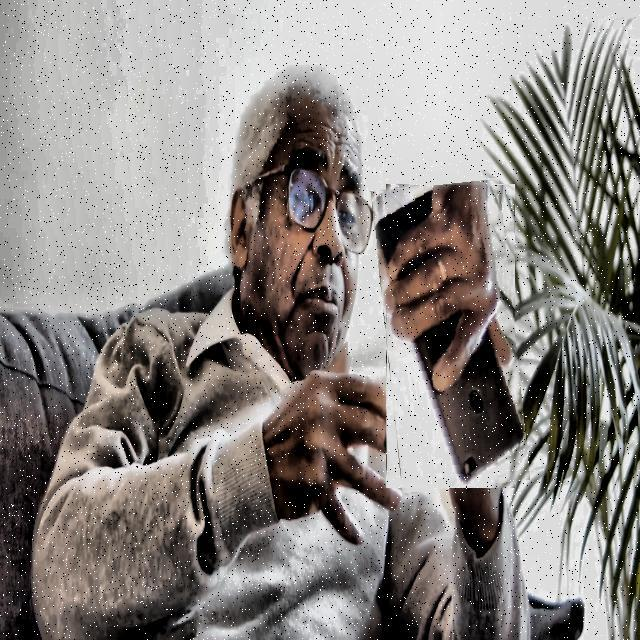Phone: (378, 182, 523, 490)
